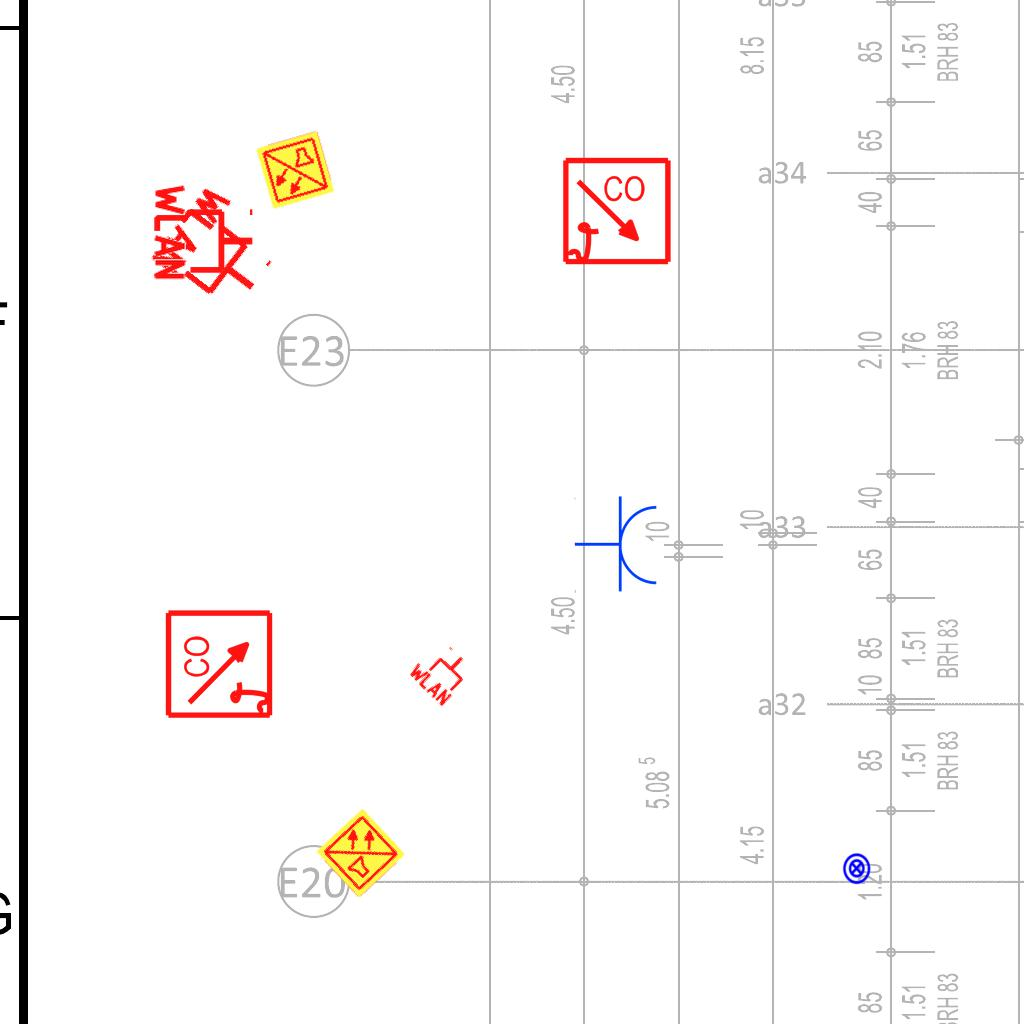OKW_Multisensormelder_(Kombination_optischer_Rauch-Kahlenmonoxid_Waerme-Melder): (314, 806, 408, 900), (254, 129, 336, 211)
ROA_Rauchmelder_optisch_mit_Signalgeber_(Sockelsirene): (164, 607, 277, 720), (561, 156, 674, 269)
Schukosteckdose_einfach: (574, 495, 661, 595)
Taster_beleuchtet: (840, 852, 873, 885)
WLAN: (146, 177, 293, 325), (152, 180, 257, 284), (405, 635, 479, 709)
